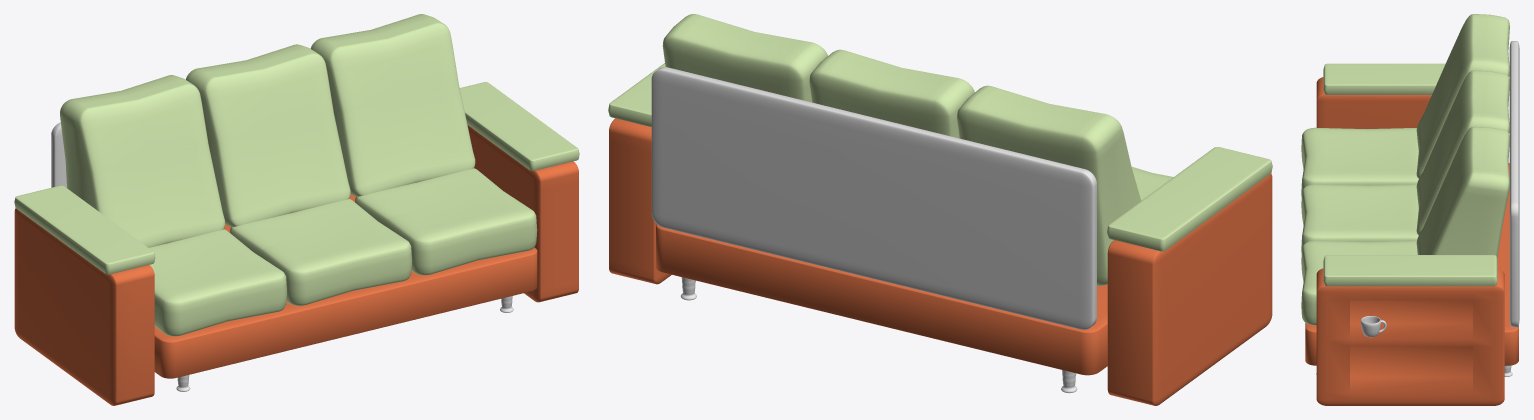
The model's file is sofa4AR.glb.
3 renders of one model, left to right at view 1: azimuth 30°, elevation 25°; view 2: azimuth 150°, elevation 25°; view 3: azimuth 270°, elevation 25°, orthographic. The views are drawn at different scales.
Visible parts, largest first — view 1: Cube.004, Cube.008, Cube.001, Cube.003, Cube.002, Cube, Cube.005, Cube.007, Cube.006, Cube.013; view 2: Cube.013, Cube.004, Cube.008, Cube.001, Cube.007, Cube.005, Cube.006, Cube, Cylinder.001; view 3: Cube.005, Cube.004, Cube, Cube.002, Cube.006, Cube.008, Cube.007, Cube.013, Cube.003, Cube.001, Circle.001.
Boxes of the visible parts, box(x1,y1,x2,y2) form: Cube.004: box(60, 14, 475, 247); Cube.008: box(14, 208, 154, 405); Cube.001: box(154, 194, 537, 378); Cube.003: box(355, 168, 537, 275); Cube.002: box(230, 199, 412, 305); Cube: box(149, 229, 286, 336); Cube.005: box(467, 125, 578, 302); Cube.007: box(14, 185, 155, 274); Cube.006: box(460, 82, 579, 170); Cube.013: box(51, 122, 66, 187); Cube.013: box(651, 67, 1096, 329); Cube.004: box(662, 14, 1140, 285); Cube.008: box(1107, 173, 1272, 405); Cube.001: box(656, 224, 1107, 375); Cube.007: box(1107, 147, 1272, 251); Cube.005: box(609, 118, 671, 284); Cube.006: box(608, 63, 665, 126); Cube: box(1131, 167, 1173, 200); Cylinder.001: box(680, 277, 1077, 393); Cube.005: box(1316, 268, 1504, 405); Cube.004: box(1416, 14, 1509, 258); Cube: box(1301, 127, 1418, 195); Cube.002: box(1301, 184, 1418, 252); Cube.006: box(1323, 255, 1497, 286); Cube.008: box(1316, 77, 1431, 128); Cube.007: box(1323, 63, 1445, 94); Cube.013: box(1509, 41, 1519, 327); Cube.003: box(1301, 240, 1417, 325); Cube.001: box(1305, 163, 1518, 365); Circle.001: box(1360, 316, 1386, 337).
Size of the model in its own units: 5.72 by 2.6 by 2.47.
